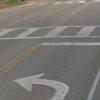Crosswalk: (5, 17, 98, 44)
